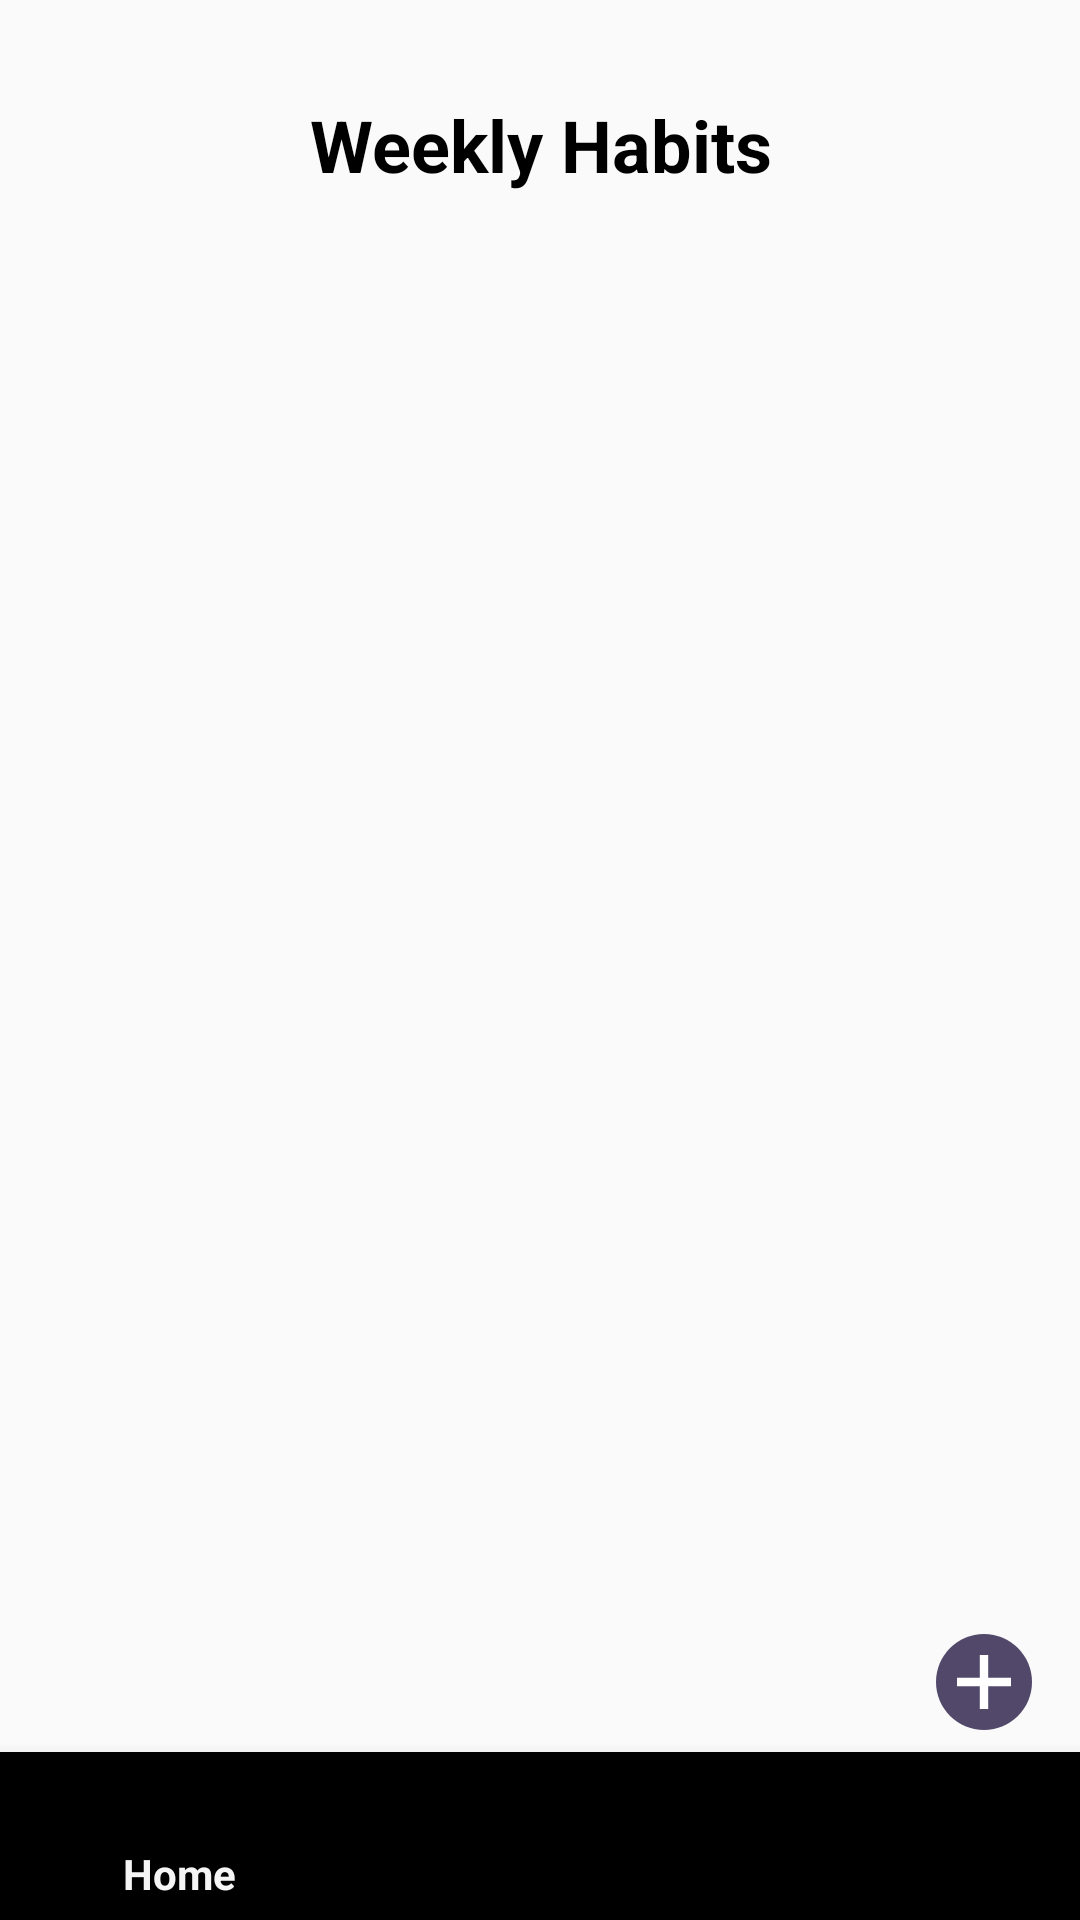

Icon click points for this 1080 × 1920 phone screenshot, format point (x, y):
plus: point (984, 1682)
